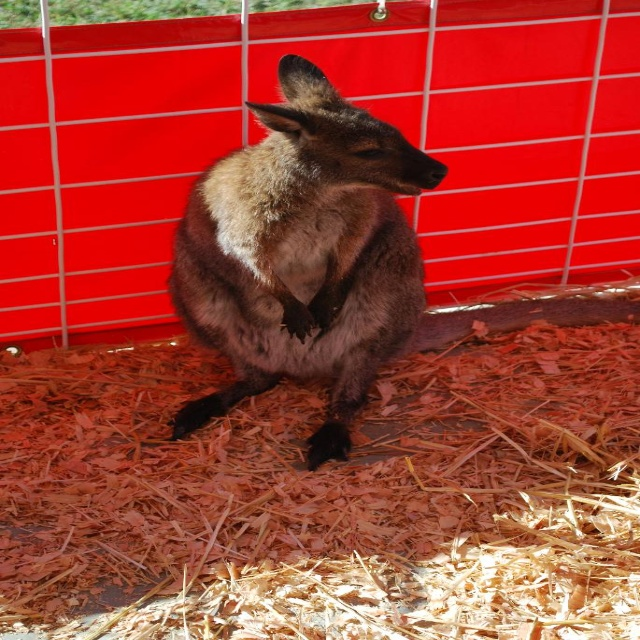Kangaroo: (158, 58, 452, 471)
